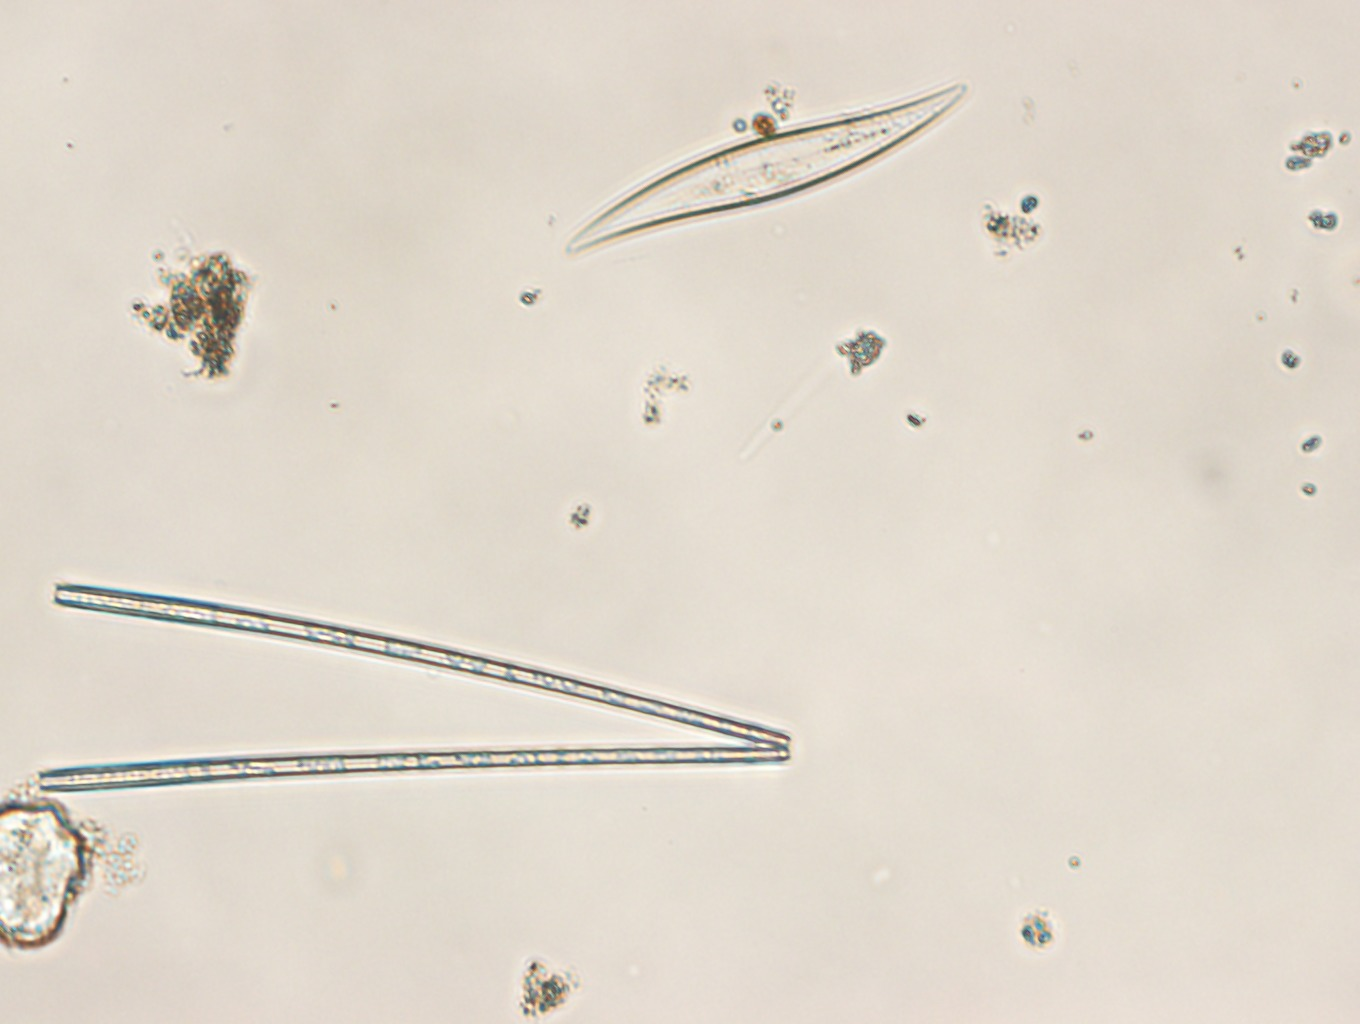pleurosigma pelagicum: (559, 82, 972, 253)
thalassionema frauenfeldii: (33, 583, 790, 794)
